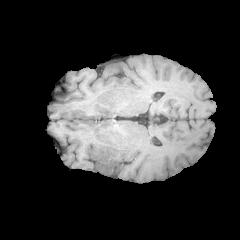glioma: (91, 143, 130, 177)
